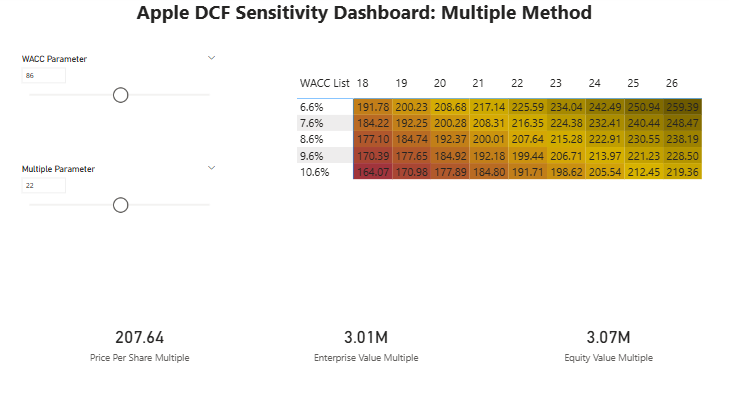

Layout of this report page (visuals, bound fields, positions):
{"tool":"powerbi","page":{"name":"Multiple Method","canvas":[1280,720],"ordinal":1},"visuals":[{"type":"slicer","fields":{"Values":["Multiple Parameter.Multiple Parameter"]},"box":[30.2,278.8,351.1,176.4],"z":0},{"type":"pivotTable","fields":{"Rows":["WACC Table.WACC List"],"Columns":["Multiple Table.Multiple List"],"Values":["Summary_Sheet_Multiple.Sensitivity Price Multiple"]},"box":[500.6,129.3,719,194.9],"z":1},{"type":"card","fields":{"Values":["Summary_Sheet_Multiple.Price Per Share Multiple"]},"box":[100.8,467,280.5,233.5],"z":2},{"type":"card","fields":{"Values":["Summary_Sheet_Multiple.Enterprise Value Multiple"]},"box":[472,467,299,233.5],"z":3},{"type":"card","fields":{"Values":["Summary_Sheet_Multiple.Equity Value Multiple"]},"box":[883.6,467,290.6,233.5],"z":4},{"type":"textbox","box":[213.3,0,816.4,67.2],"z":5},{"type":"slicer","fields":{"Values":["WACC Parameter.WACC Parameter"]},"box":[30.2,94.1,351.1,156.2],"z":6}]}

Visuals, with their boxes in screenshot pixels (x1, y1, x2, y2), scaled from the page's 1280x720 canvas onto the 729x416 screenshot:
slicer - Multiple Parameter.Multiple Parameter: <bbox>17, 161, 217, 263</bbox>
pivotTable - WACC Table.WACC List x Multiple Table.Multiple List: <bbox>285, 75, 695, 187</bbox>
card - Summary_Sheet_Multiple.Price Per Share Multiple: <bbox>57, 270, 217, 405</bbox>
card - Summary_Sheet_Multiple.Enterprise Value Multiple: <bbox>269, 270, 439, 405</bbox>
card - Summary_Sheet_Multiple.Equity Value Multiple: <bbox>503, 270, 669, 405</bbox>
textbox: <bbox>121, 0, 586, 39</bbox>
slicer - WACC Parameter.WACC Parameter: <bbox>17, 54, 217, 145</bbox>
